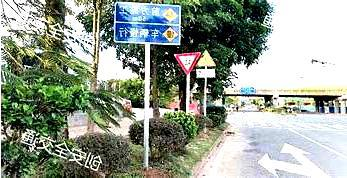sign: (115, 4, 181, 45)
